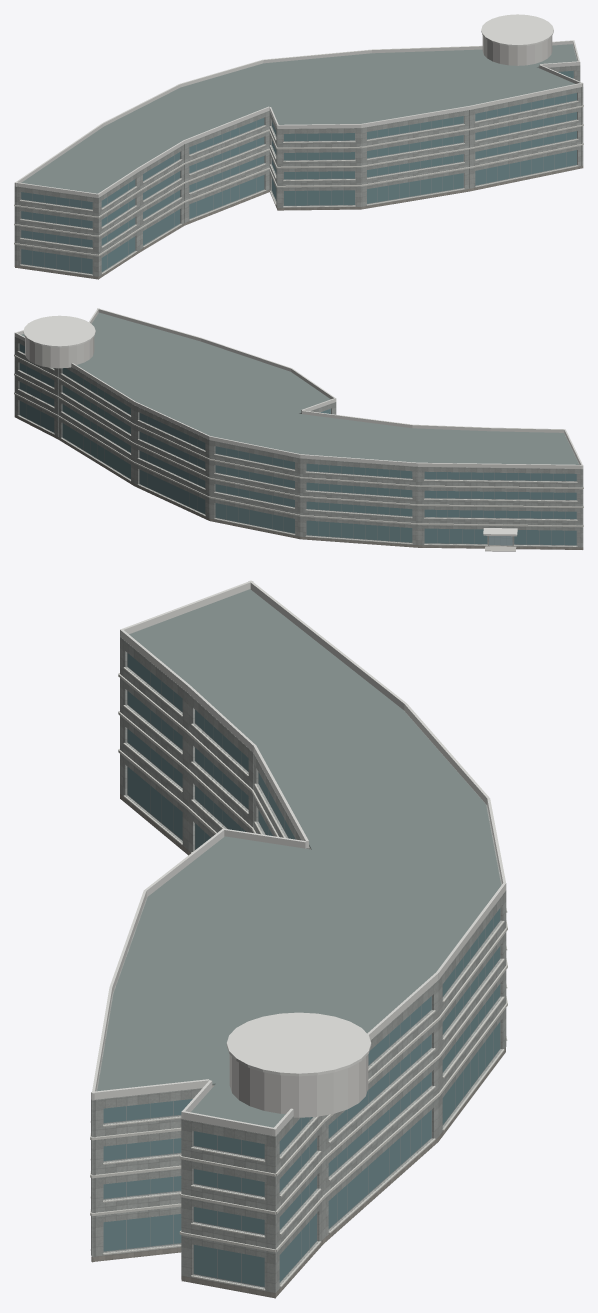
The picture shows the model from 3 angles, top to bottom: view 1: azimuth 30°, elevation 25°; view 2: azimuth 150°, elevation 25°; view 3: azimuth 270°, elevation 25°; orthographic projection. The views are drawn at different scales.
Visible parts, largest first — view 1: child__roof, child__wall, child__glass, child__cap, child__band, child__frame, child__plinth, child__roof-core, child__foundation; view 2: child__roof, child__wall, child__glass, child__cap, child__band, child__frame, child__plinth, child__roof-core, child__foundation; view 3: child__roof, child__wall, child__glass, child__cap, child__band, child__roof-core, child__frame, child__plinth, child__foundation.
Part boxes in pixels (x1,y1,x2,y2): child__roof: (21, 44, 576, 193); child__wall: (14, 44, 583, 276); child__glass: (21, 70, 576, 273); child__cap: (14, 14, 583, 197); child__band: (14, 79, 583, 275); child__frame: (20, 71, 577, 274); child__plinth: (14, 166, 582, 278); child__roof-core: (482, 35, 552, 65); child__foundation: (15, 166, 583, 279); child__roof: (21, 312, 578, 464); child__wall: (14, 313, 583, 547); child__glass: (19, 344, 576, 545); child__cap: (14, 308, 583, 534); child__band: (14, 351, 583, 546); child__frame: (19, 344, 577, 545); child__plinth: (15, 415, 582, 549); child__roof-core: (25, 337, 94, 368); child__foundation: (14, 415, 583, 549); child__roof: (97, 589, 501, 1127); child__wall: (91, 637, 506, 1292); child__glass: (103, 653, 500, 1286); child__cap: (91, 580, 506, 1136); child__band: (90, 667, 507, 1290); child__roof-core: (229, 1054, 368, 1117); child__frame: (103, 653, 500, 1287); child__plinth: (91, 794, 505, 1296); child__foundation: (91, 798, 505, 1298).
Bounding box in the file's own units: 109 × 19.03 × 34.98.
Materials: 13 (4 with a texture image).
